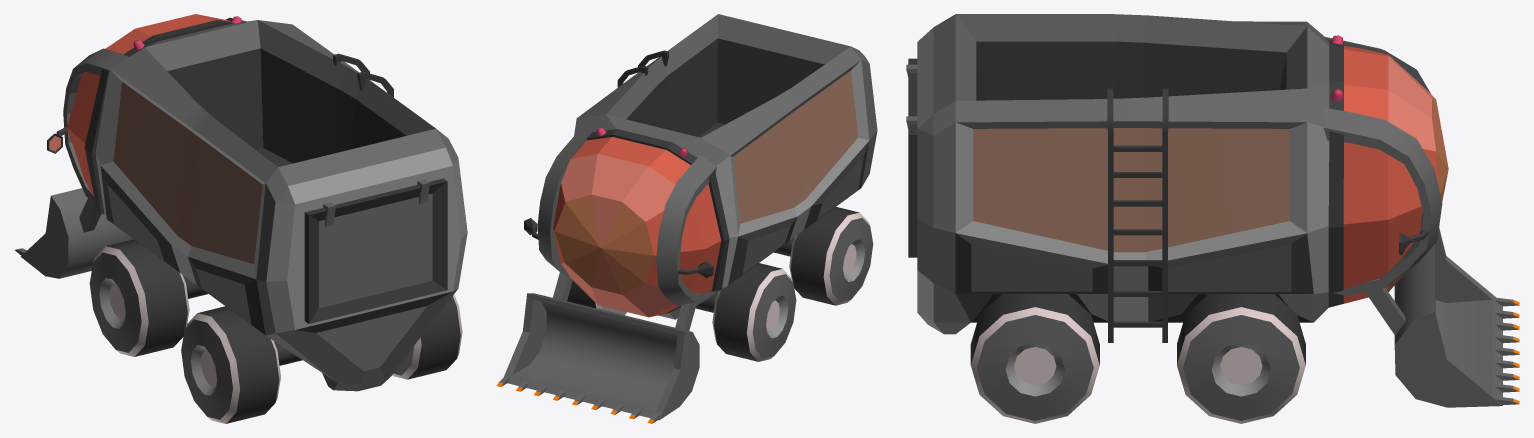
The model's file is Mining_Truck.fbx.
The picture shows the model from 3 angles, left to right: view 1: azimuth 30°, elevation 25°; view 2: azimuth 150°, elevation 25°; view 3: azimuth 270°, elevation 25°; orthographic projection. The views are drawn at different scales.
Visible parts, largest first — view 1: Mining_Truck, Mining_Truck_Scoop; view 2: Mining_Truck, Mining_Truck_Scoop; view 3: Mining_Truck, Mining_Truck_Scoop.
Part boxes in pixels (x1,y1,x2,y2): Mining_Truck: (47,14,467,423); Mining_Truck_Scoop: (15,188,133,278); Mining_Truck: (524,14,877,361); Mining_Truck_Scoop: (496,272,699,423); Mining_Truck: (906,14,1448,423); Mining_Truck_Scoop: (1365,227,1519,407).
Size of the model in its own units: 251 by 283 by 502.
